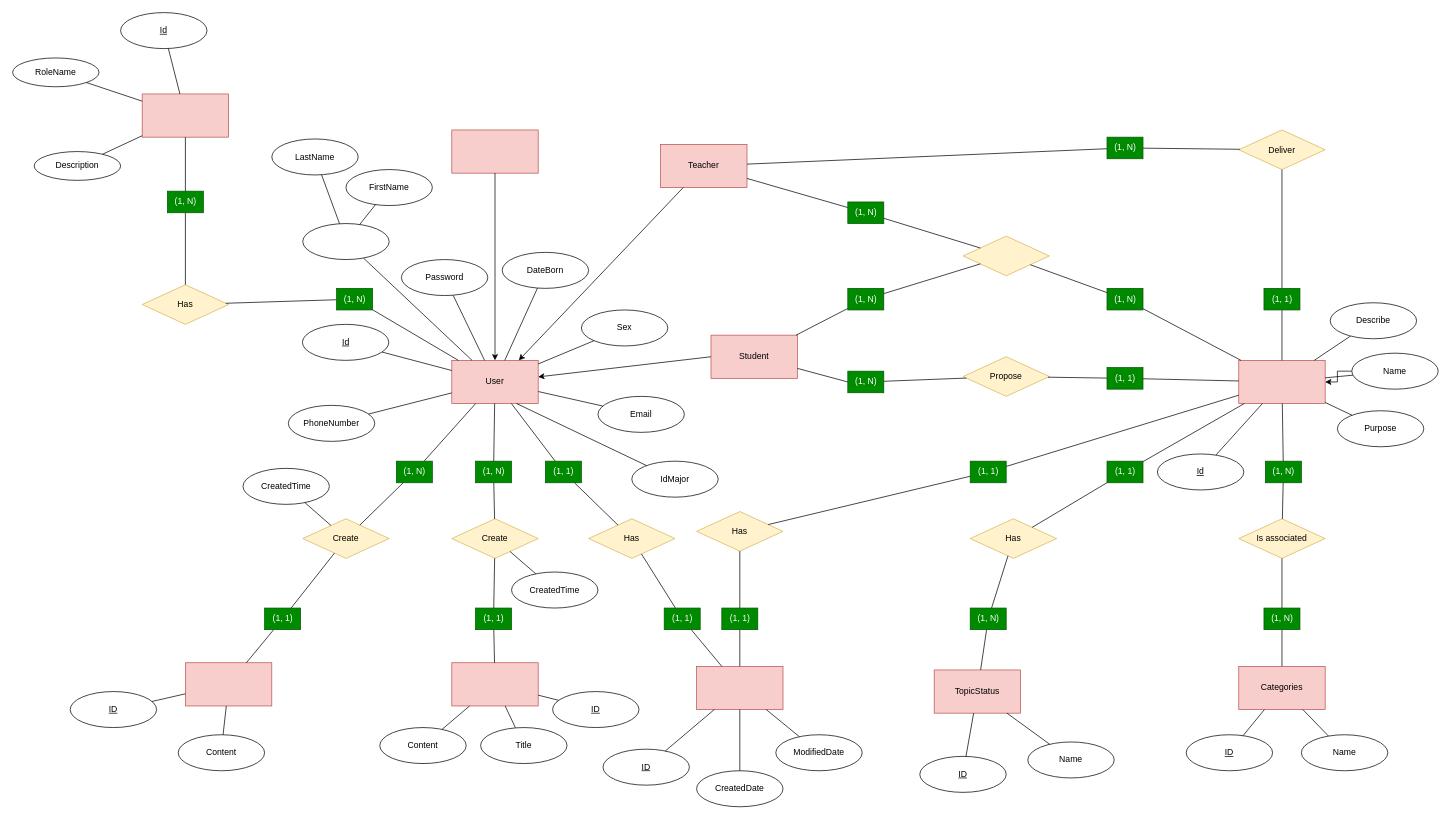
Some shapes in this 1451 by 819 pixel diagram are drawn without their labels. Each missing label, with the centre of its shape:
"Admin" goes at (494,151).
"Announcements" goes at (494,684).
"FullName" goes at (345,241).
"InProgress" goes at (1005,255).
"Roles" goes at (185,115).
"SearchLogs" goes at (228,684).
"Timestamps" goes at (739,688).
"Topic" goes at (1281,382).
